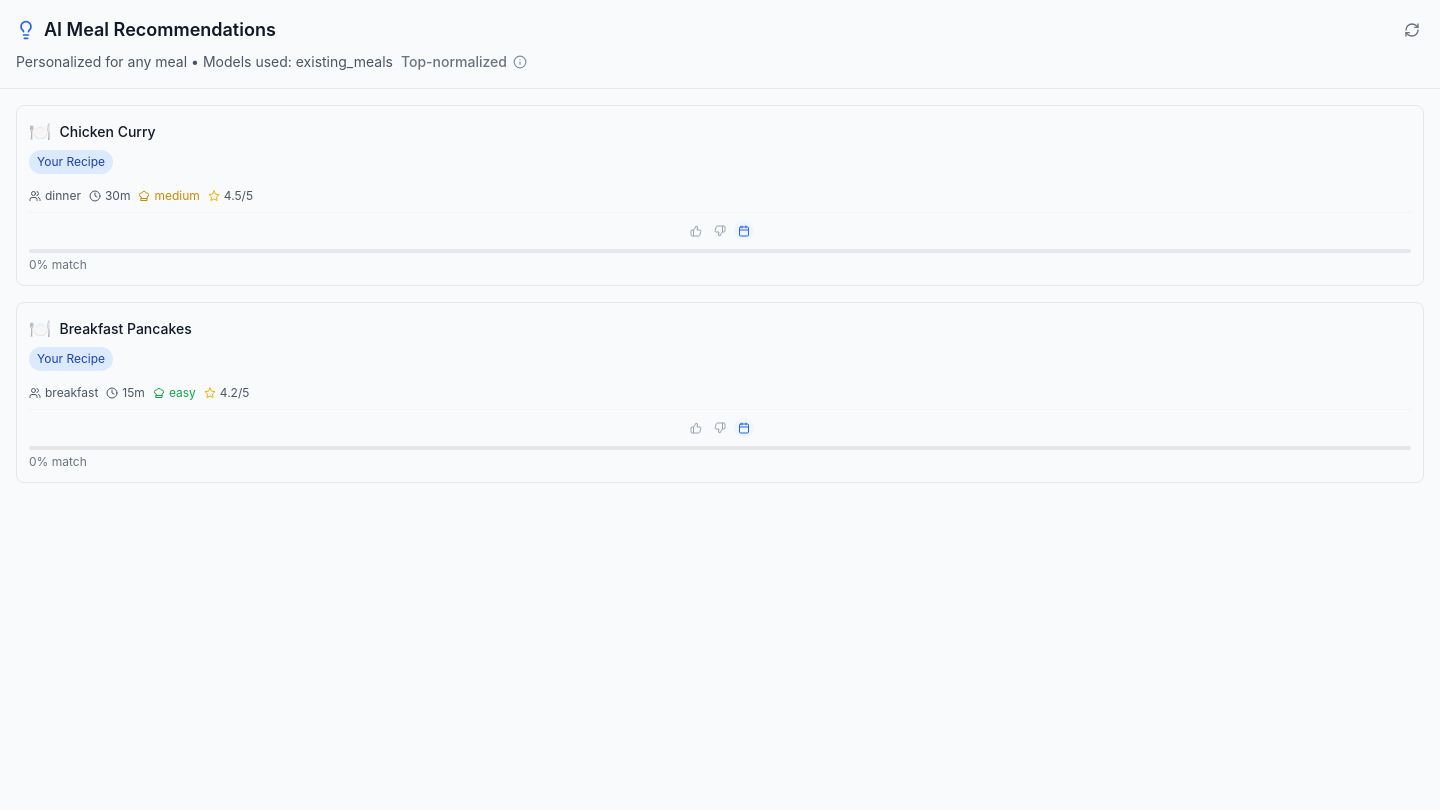
Test case: MealRecommendations › Error Handling › handles meal plan creation failure
Expected: the heading "Chicken Curry" is shown, left=60, top=123, right=156, bottom=140
# Open modal and submit
Click the 1st button titled "Add to meal plan" at (744, 231), box left=734, top=221, right=754, bottom=241
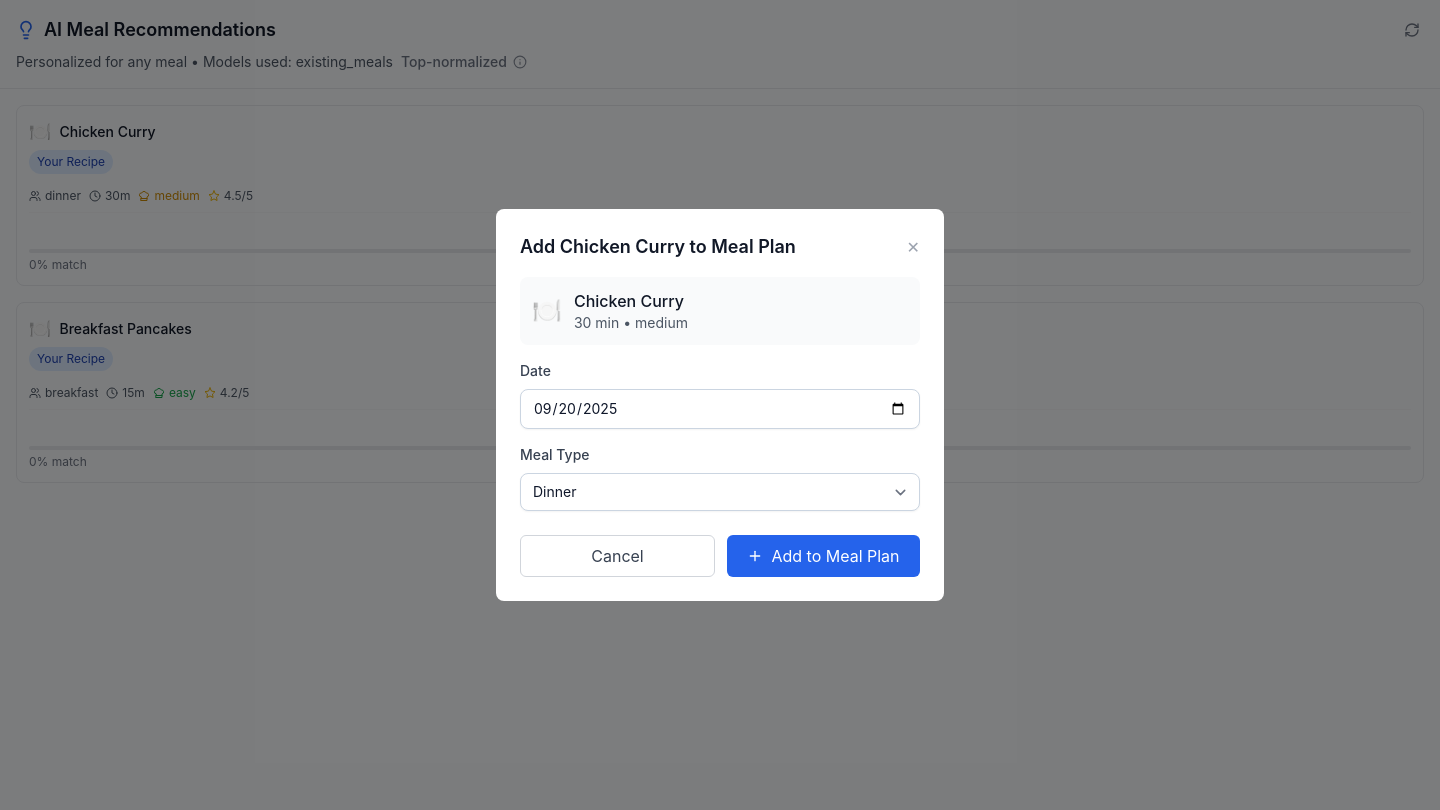
Expected: the heading "Add Chicken Curry to Meal Plan" is shown, left=520, top=233, right=796, bottom=261
Click the button "Add to Meal Plan" at (824, 556), box left=727, top=535, right=920, bottom=577
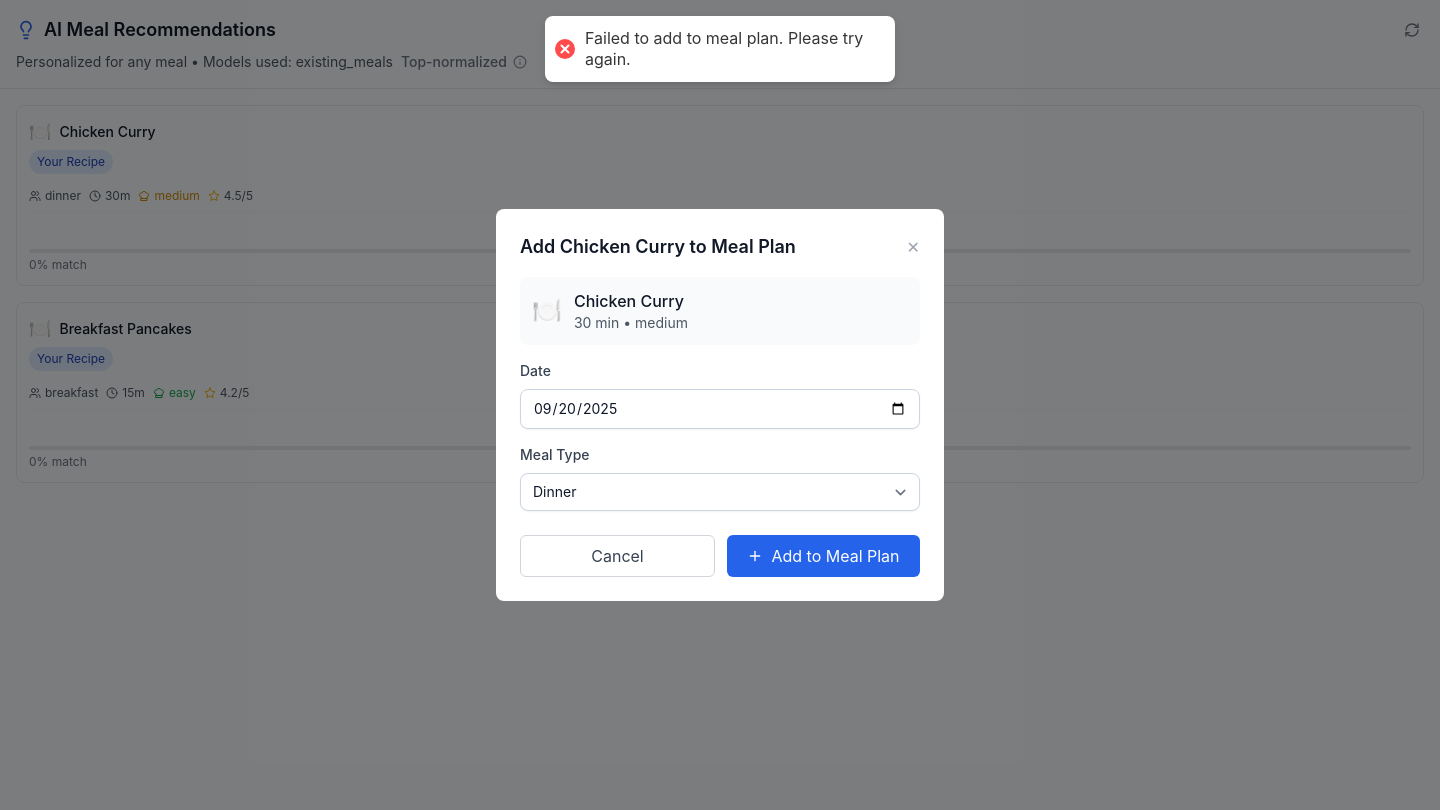
Expected: the text "Failed to add to meal plan. Please try again." is shown, left=585, top=28, right=875, bottom=70
